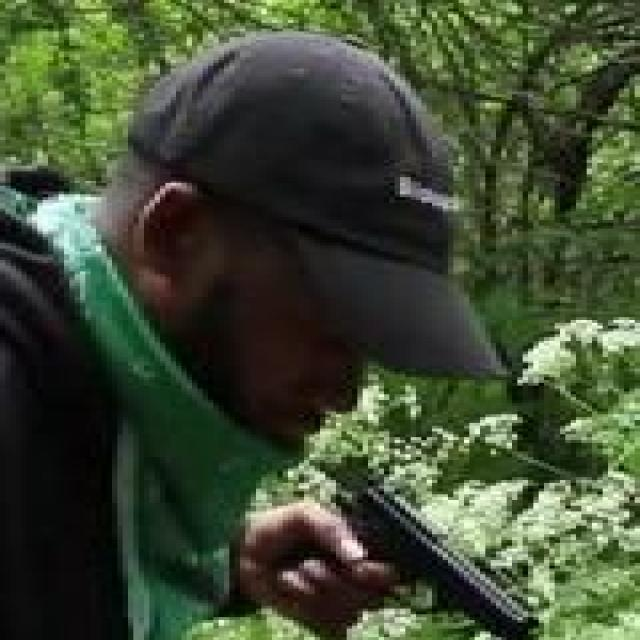Guns: (213, 437, 576, 640)
